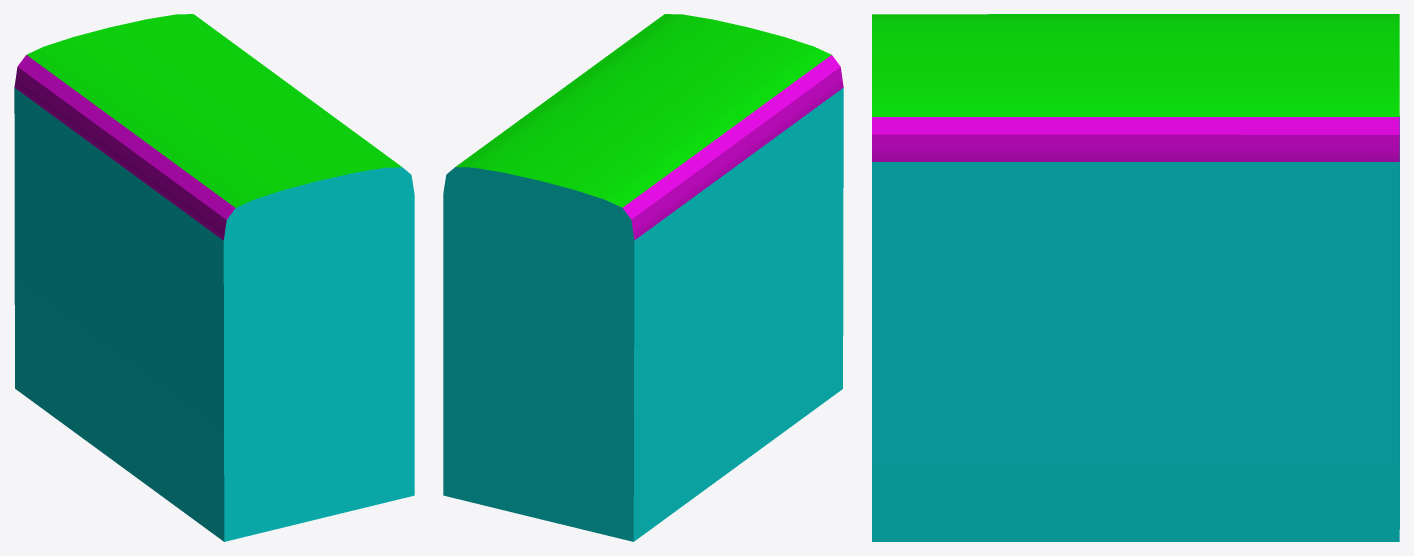
3 views of the same model, side by side, from view 1: azimuth 30°, elevation 25°; view 2: azimuth 150°, elevation 25°; view 3: azimuth 270°, elevation 25° (orthographic). The views are drawn at different scales.
Parts seen in each view (by area): view 1: shap02; view 2: shap02; view 3: shap02.
Part boxes in pixels (x1,y1,x2,y2): shap02: (14, 14, 414, 541); shap02: (443, 14, 843, 541); shap02: (872, 14, 1399, 541).
Size of the model in its own units: 757 by 1282 by 1437.
